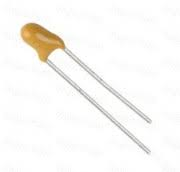ceramic capacitor: (7, 15, 92, 88)
